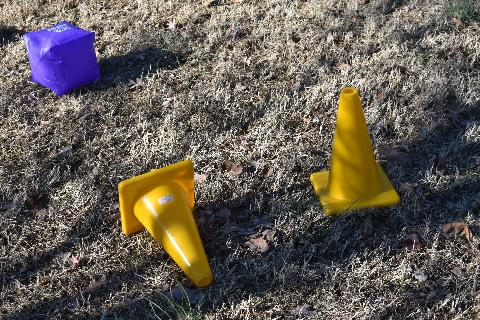cone: (118, 158, 214, 290), (310, 87, 401, 215)
cube: (22, 21, 100, 97)
